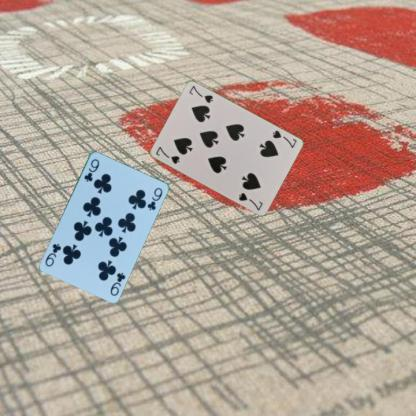7s: (269, 128, 298, 149), (153, 144, 181, 165)
9c: (82, 156, 100, 183), (108, 270, 126, 297)
